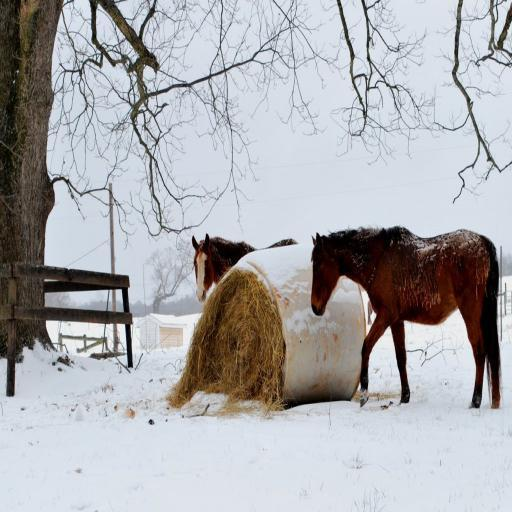horse: (310, 224, 502, 416), (192, 230, 300, 304)
